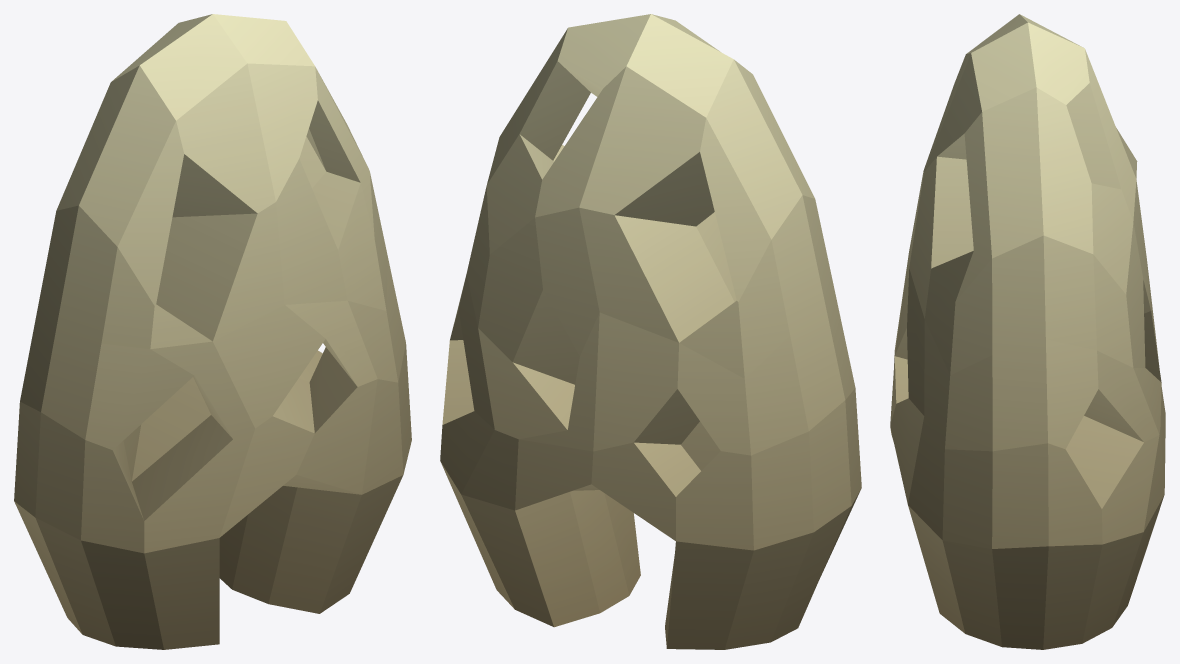
File: Checkpoint.fbx
3 renders of one model, left to right at view 1: azimuth 30°, elevation 25°; view 2: azimuth 150°, elevation 25°; view 3: azimuth 270°, elevation 25°, orthographic. The views are drawn at different scales.
Visible parts, largest first — view 1: CheckPoint; view 2: CheckPoint; view 3: CheckPoint.
Part boxes in pixels (<box>): CheckPoint: <box>14,14,411,649</box>; CheckPoint: <box>440,14,861,649</box>; CheckPoint: <box>890,14,1165,649</box>.
Size of the model in its own units: 429 by 634 by 281.
1 material, 1 textured.
